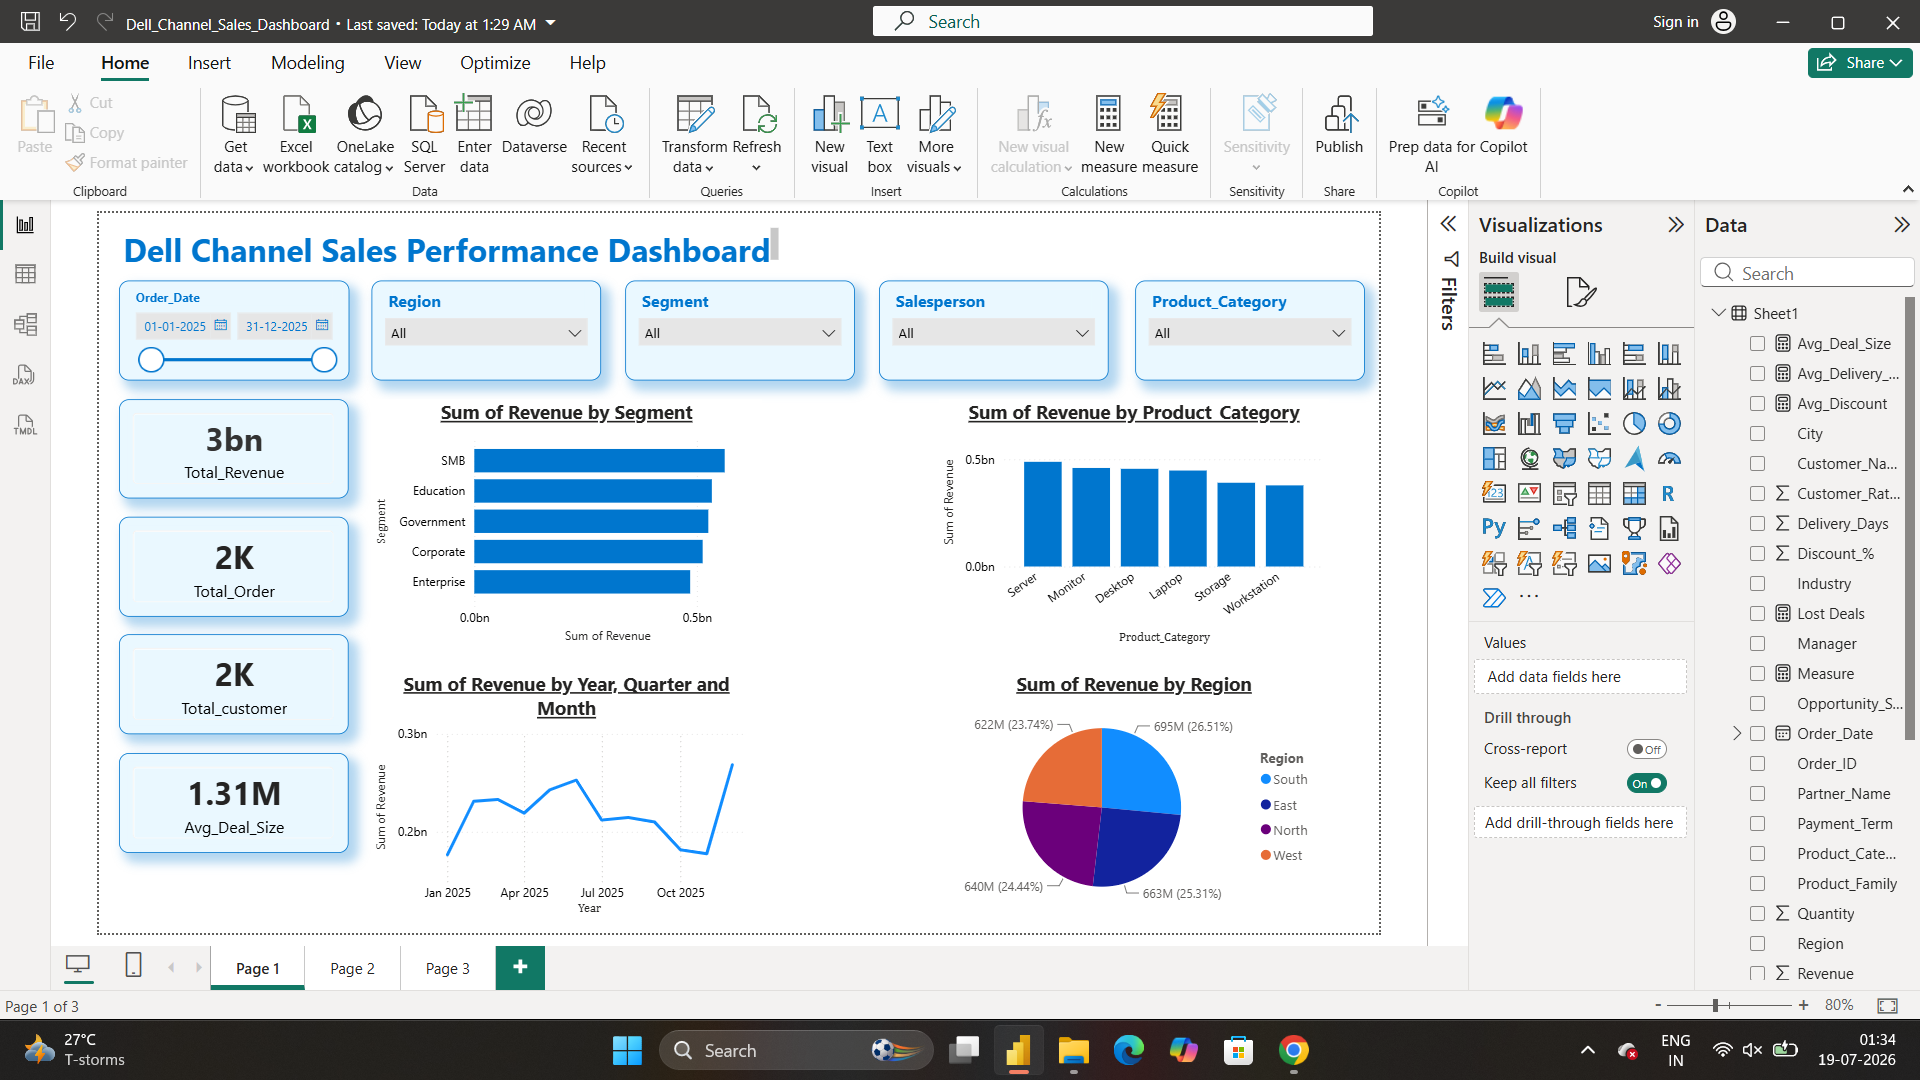

What the dashboard file says about the page in this screenshot:
{"tool":"powerbi","page":{"name":"Page 1","canvas":[1280,720],"ordinal":0},"visuals":[{"type":"textbox","box":[19.2,9.6,665.5,46.7],"z":0},{"type":"slicer","fields":{"Values":["Sheet1.Order_Date"]},"box":[19.6,67.3,230,100],"z":1000},{"type":"slicer","fields":{"Values":["Sheet1.Segment"]},"box":[525.8,67.3,229.9,100.3],"z":2000},{"type":"slicer","fields":{"Values":["Sheet1.Product_Category"]},"box":[1035.7,67.3,229.9,100.3],"z":3000},{"type":"slicer","fields":{"Values":["Sheet1.Salesperson"]},"box":[780.2,67.3,229.9,100.3],"z":4000},{"type":"slicer","fields":{"Values":["Sheet1.Region"]},"box":[272.7,67.3,229.9,100.3],"z":5000},{"type":"cardVisual","fields":{"Data":["Sheet1.Total_Revenue"]},"box":[19.6,185.9,229.9,99],"z":6000},{"type":"cardVisual","fields":{"Data":["Sheet1.Total_Order"]},"box":[19.6,303.3,229.9,100.3],"z":7000},{"type":"cardVisual","fields":{"Data":["Sheet1.Total_customer"]},"box":[19.6,420.7,229.9,100.3],"z":8000},{"type":"cardVisual","fields":{"Data":["Sheet1.Avg_Deal_Size"]},"box":[19.6,540.5,229.9,100.3],"z":9000},{"type":"clusteredBarChart","fields":{"Category":["Sheet1.Segment"],"Y":["Sum(Sheet1.Revenue)"]},"box":[272.7,185.9,390.1,249.5],"z":10000},{"type":"clusteredColumnChart","fields":{"Category":["Sheet1.Product_Category"],"Y":["Sum(Sheet1.Revenue)"]},"box":[840.1,185.9,390.1,249.5],"z":11000},{"type":"pieChart","fields":{"Category":["Sheet1.Region"],"Y":["Sum(Sheet1.Revenue)"]},"box":[840.1,457.3,390.1,249.5],"z":12000},{"type":"lineChart","fields":{"Y":["Sum(Sheet1.Revenue)"],"Category":["Sheet1.Order_Date.Variation.Date Hierarchy.Year","Sheet1.Order_Date.Variation.Date Hierarchy.Quarter","Sheet1.Order_Date.Variation.Date Hierarchy.Month"]},"box":[272.7,457.3,390.1,249.5],"z":13000}]}

Visuals, with their boxes on the page's 1280x720 design canvas (x1, y1, x2, y2). These are canvas units, not pixel positions in the 1920x1080 screenshot, which may show the page scaled, cropped or inside an application window:
textbox: bbox=(19, 10, 685, 56)
slicer - Sheet1.Order_Date: bbox=(20, 67, 250, 167)
slicer - Sheet1.Segment: bbox=(526, 67, 756, 168)
slicer - Sheet1.Product_Category: bbox=(1036, 67, 1266, 168)
slicer - Sheet1.Salesperson: bbox=(780, 67, 1010, 168)
slicer - Sheet1.Region: bbox=(273, 67, 503, 168)
cardVisual - Sheet1.Total_Revenue: bbox=(20, 186, 250, 285)
cardVisual - Sheet1.Total_Order: bbox=(20, 303, 250, 404)
cardVisual - Sheet1.Total_customer: bbox=(20, 421, 250, 521)
cardVisual - Sheet1.Avg_Deal_Size: bbox=(20, 540, 250, 641)
clusteredBarChart - Sheet1.Segment x Sum(Sheet1.Revenue): bbox=(273, 186, 663, 435)
clusteredColumnChart - Sheet1.Product_Category x Sum(Sheet1.Revenue): bbox=(840, 186, 1230, 435)
pieChart - Sheet1.Region x Sum(Sheet1.Revenue): bbox=(840, 457, 1230, 707)
lineChart - Sum(Sheet1.Revenue) x Sheet1.Order_Date.Variation.Date Hierarchy.Year: bbox=(273, 457, 663, 707)
